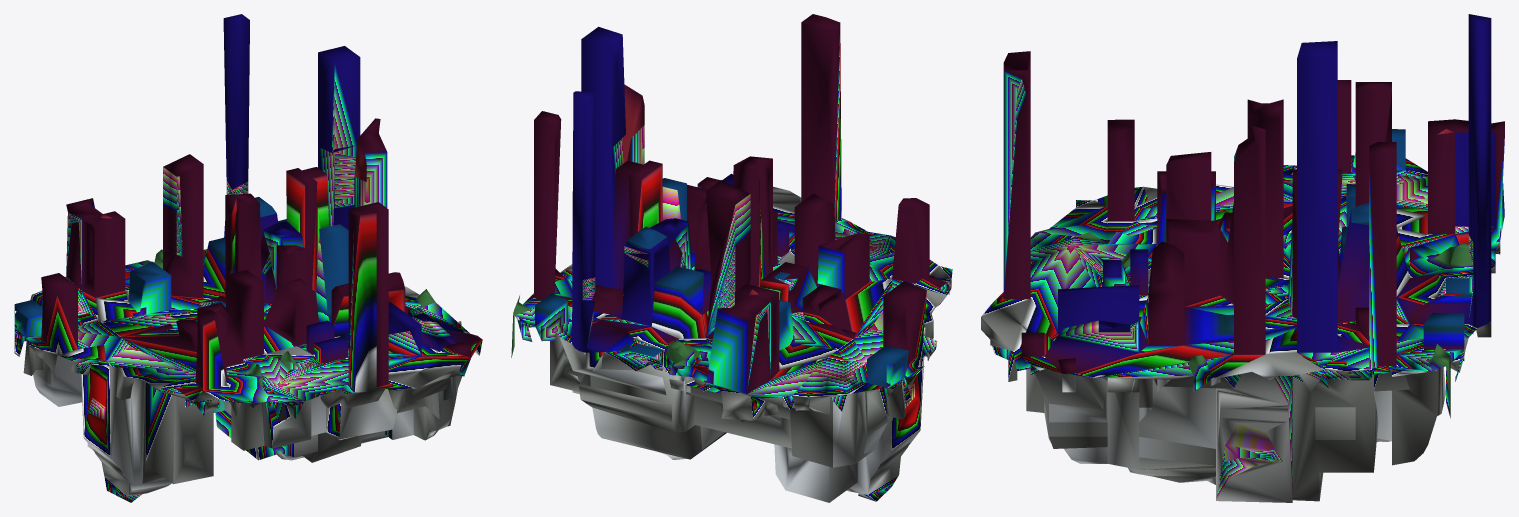
Rendered from ile-flottante.glb.
The picture shows the model from 3 angles, left to right: view 1: azimuth 30°, elevation 25°; view 2: azimuth 150°, elevation 25°; view 3: azimuth 270°, elevation 25°; orthographic projection. The views are drawn at different scales.
Visible parts, largest first — view 1: VoxelSciFiCity2; view 2: VoxelSciFiCity2; view 3: VoxelSciFiCity2.
Part boxes in pixels (x1=…): VoxelSciFiCity2: x1=14, y1=14, x2=482, y2=502; VoxelSciFiCity2: x1=511, y1=14, x2=952, y2=502; VoxelSciFiCity2: x1=981, y1=14, x2=1504, y2=502.
Bounding box in the file's own units: 11800 × 12100 × 11601.
Materials: 1 (1 with a texture image).
